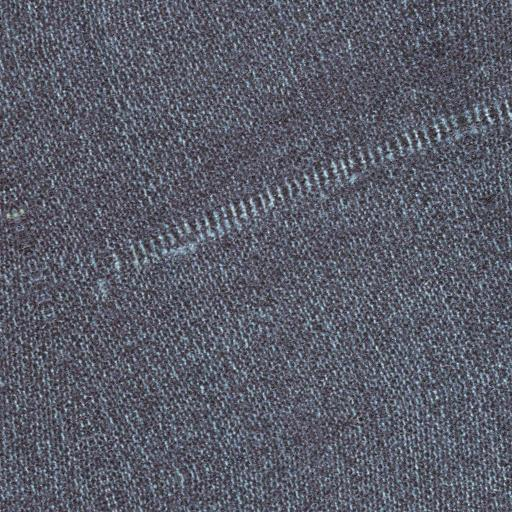slub: (104, 88, 511, 291)
